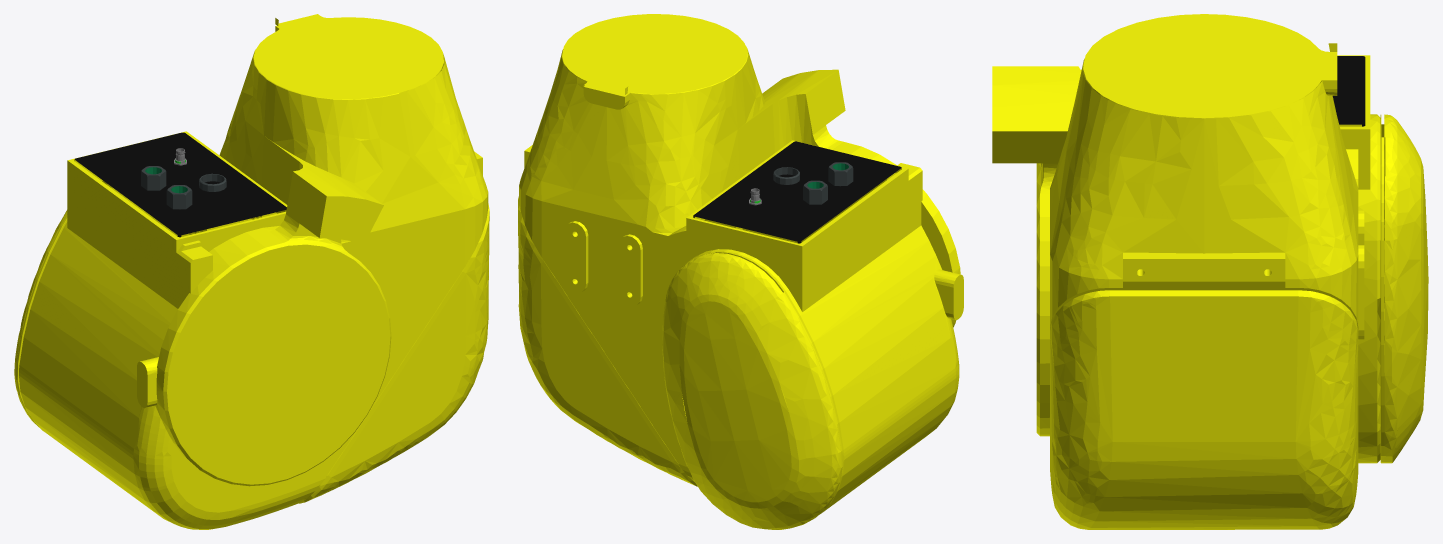
3 renders of one model, left to right at view 1: azimuth 30°, elevation 25°; view 2: azimuth 150°, elevation 25°; view 3: azimuth 270°, elevation 25°, orthographic. The views are drawn at different scales.
Parts seen in each view (by area): view 1: node; view 2: node; view 3: node.
Boxes of the visible parts, box(x1,y1,x2,y2) form: node: box(14, 14, 489, 529); node: box(518, 14, 963, 529); node: box(992, 14, 1428, 529).
Size of the model in its own units: 456 by 475 by 371.
